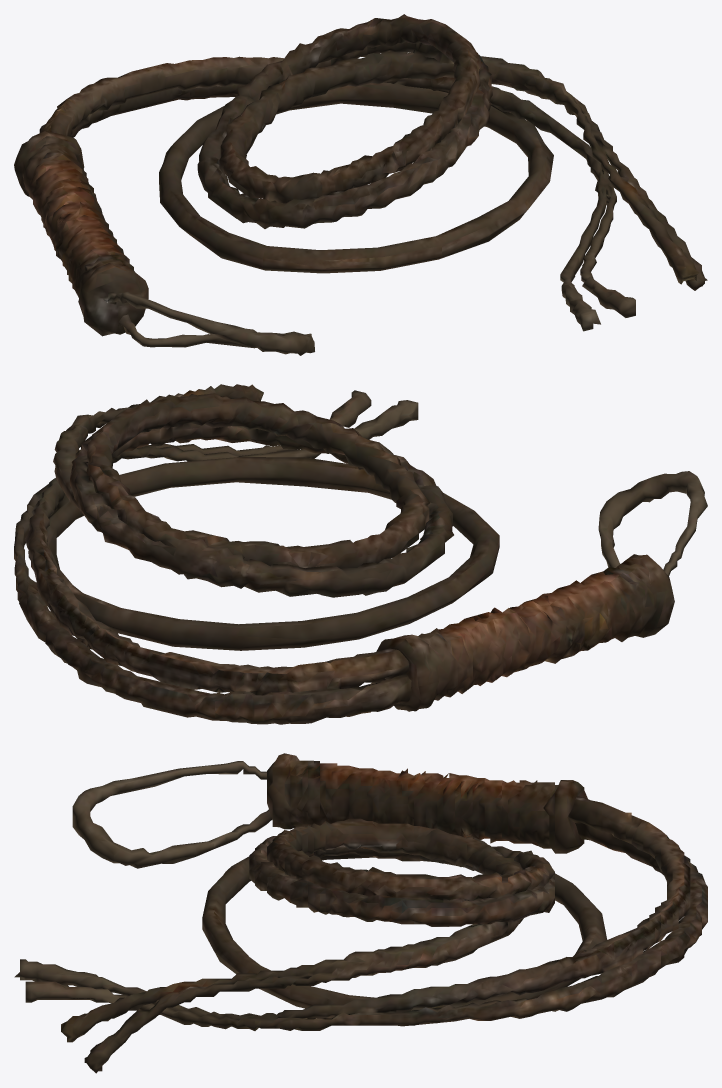
Rendered from WPN_WHIP.glb.
The picture shows the model from 3 angles, top to bottom: view 1: azimuth 30°, elevation 25°; view 2: azimuth 150°, elevation 25°; view 3: azimuth 270°, elevation 25°; orthographic projection. The views are drawn at different scales.
Parts seen in each view (by area): view 1: WPN_WHIP; view 2: WPN_WHIP; view 3: WPN_WHIP.
Boxes of the visible parts, x1,y1,x2,y2 form: WPN_WHIP: (14,14,707,355); WPN_WHIP: (14,384,707,724); WPN_WHIP: (14,753,707,1073).
Size of the model in its own units: 0.2016 by 0.0568 by 0.2309.
Materials: 1 (1 with a texture image).
